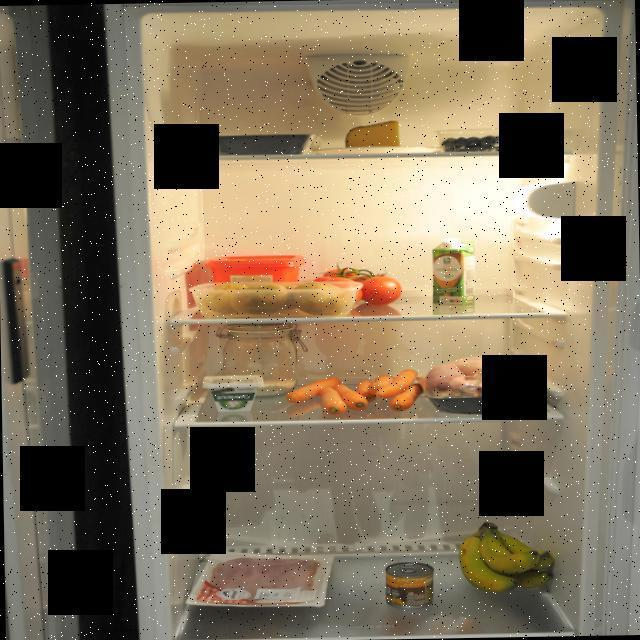banana: (451, 514, 566, 600)
blueberries: (440, 134, 523, 152)
butter: (205, 251, 308, 289)
carrot: (285, 366, 429, 417)
cheese: (344, 117, 404, 153)
chicken breast: (419, 351, 553, 414)
corn: (384, 560, 434, 612)
flour: (213, 320, 314, 401)
goat_cheese: (201, 374, 264, 414)
ham: (208, 554, 326, 606)
heavy_cream: (430, 240, 472, 308)
potato: (190, 278, 355, 318)
tomato: (316, 258, 408, 308)
